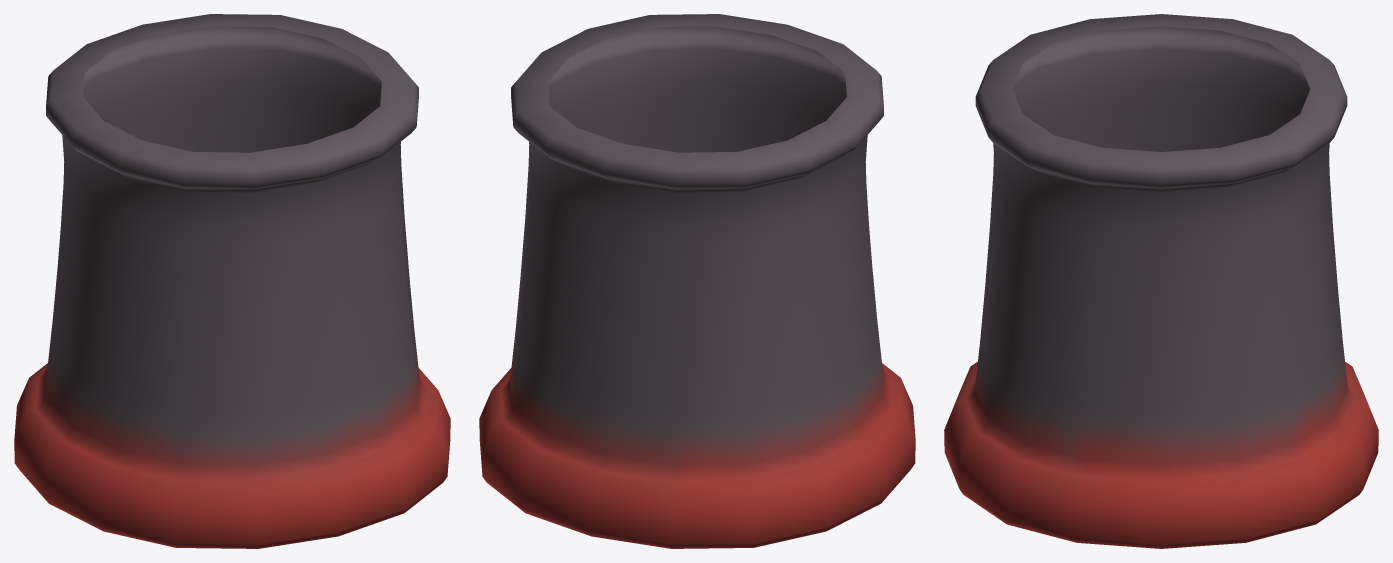
3 renders of one model, left to right at view 1: azimuth 30°, elevation 25°; view 2: azimuth 150°, elevation 25°; view 3: azimuth 270°, elevation 25°, orthographic.
Visible parts, largest first — view 1: Base; view 2: Base; view 3: Base.
Part boxes in pixels (x1,y1,x2,y2): Base: (14, 14, 450, 548); Base: (479, 14, 915, 548); Base: (944, 14, 1378, 548).
Bounding box in the file's own units: 1.87 × 1.78 × 1.87.
1 material, 1 textured.
